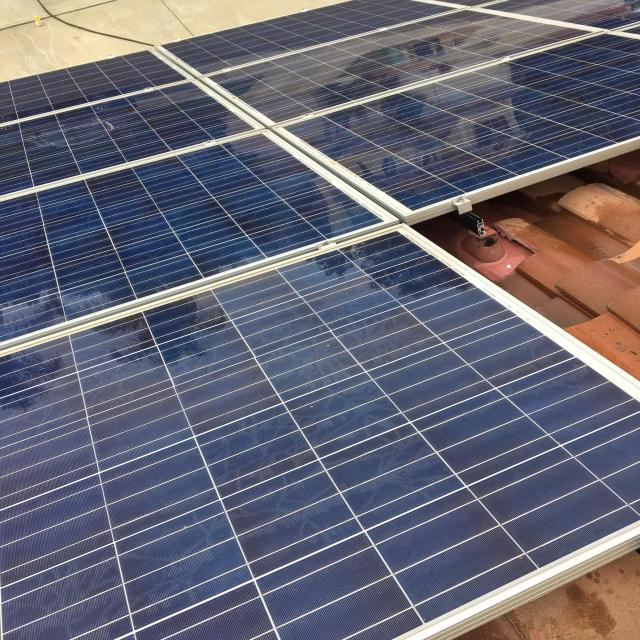clean-solar-panel: (0, 0, 640, 640)
